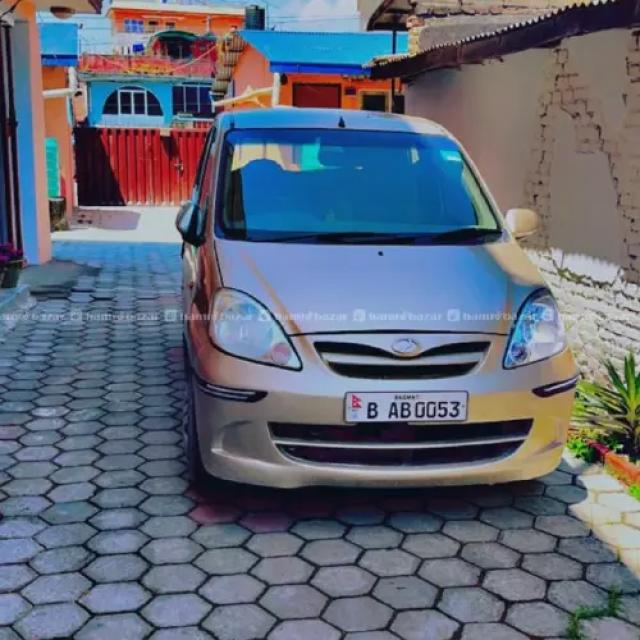License-plate: (346, 393, 474, 421)
